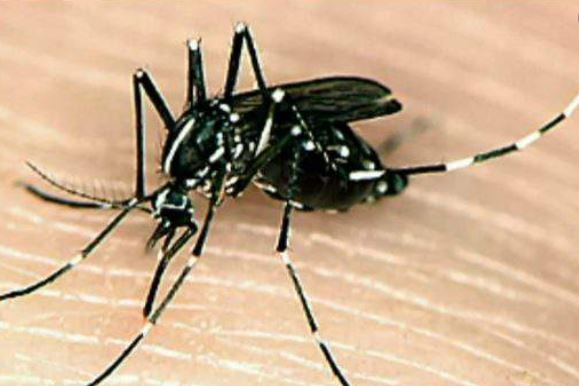dengue_mosquito: (23, 19, 430, 379)
